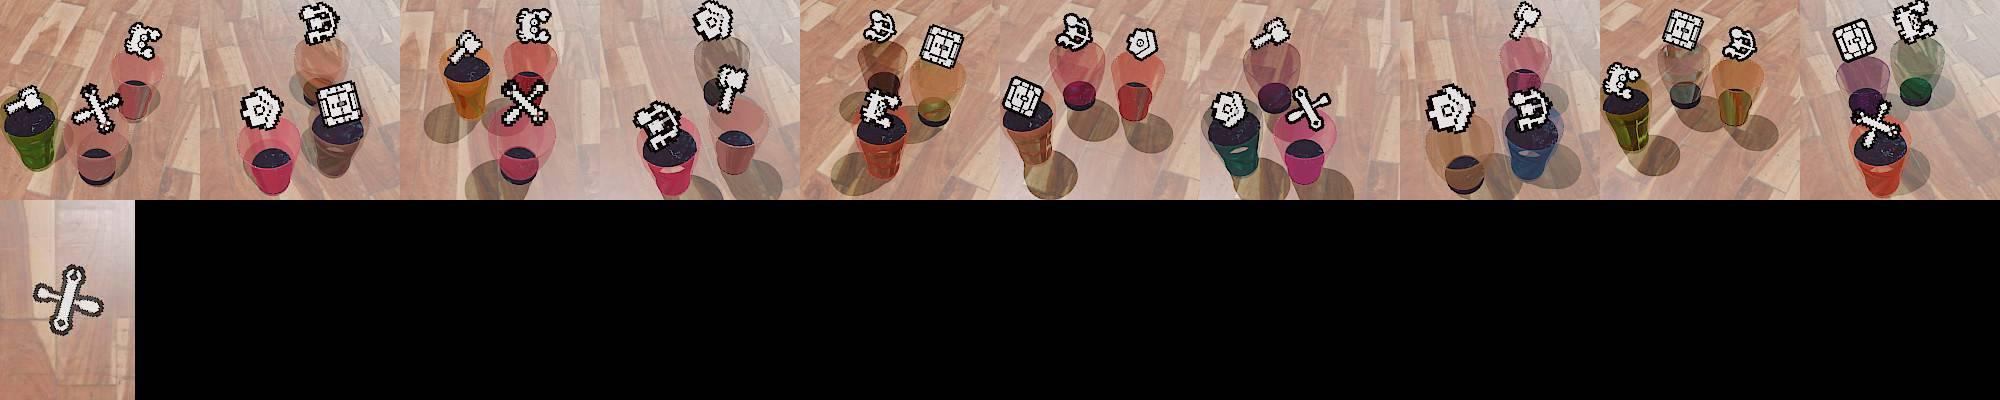icon: (31, 262, 106, 337), (313, 79, 365, 132), (71, 83, 122, 134), (1425, 84, 1476, 135), (500, 77, 550, 127), (1853, 100, 1902, 151), (634, 100, 685, 149), (707, 62, 749, 114), (919, 22, 964, 70), (239, 85, 285, 131), (1832, 18, 1877, 64), (1286, 84, 1330, 131), (856, 86, 902, 130), (1892, 0, 1936, 45), (1003, 74, 1046, 120), (1662, 8, 1705, 54), (1508, 87, 1551, 133), (298, 1, 340, 46), (691, 0, 734, 42), (1601, 60, 1642, 100), (124, 20, 163, 60), (1209, 89, 1248, 128), (1055, 12, 1093, 52), (3, 84, 46, 119), (514, 7, 553, 45), (446, 28, 484, 67), (1249, 15, 1290, 51), (1721, 24, 1758, 63), (1509, 1, 1543, 42), (863, 9, 898, 44), (1126, 26, 1159, 61)
